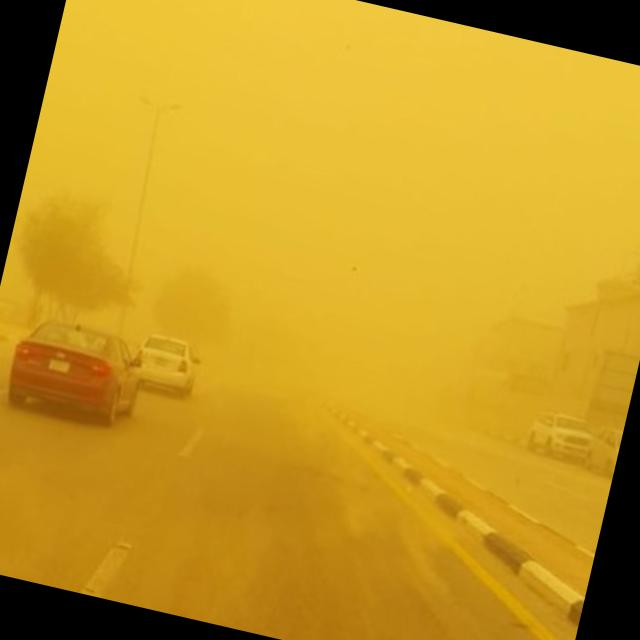car: (1, 312, 150, 433), (131, 330, 202, 399), (523, 407, 597, 466), (583, 422, 623, 476)
